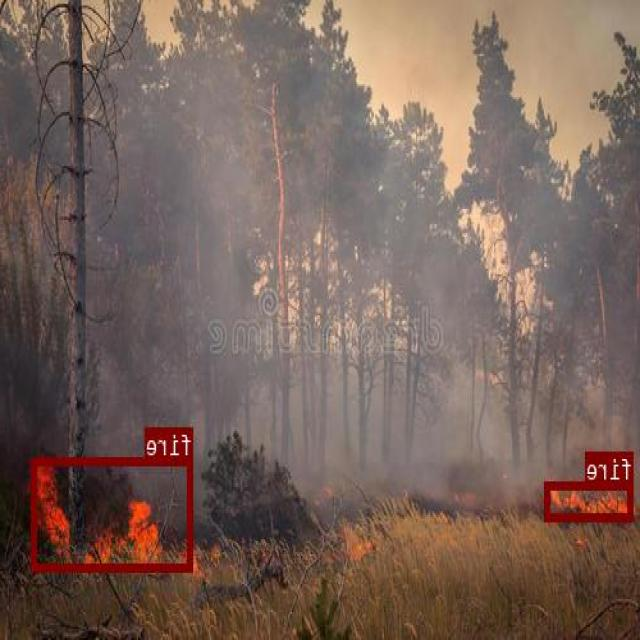fire: (33, 456, 194, 570), (546, 481, 634, 519)
